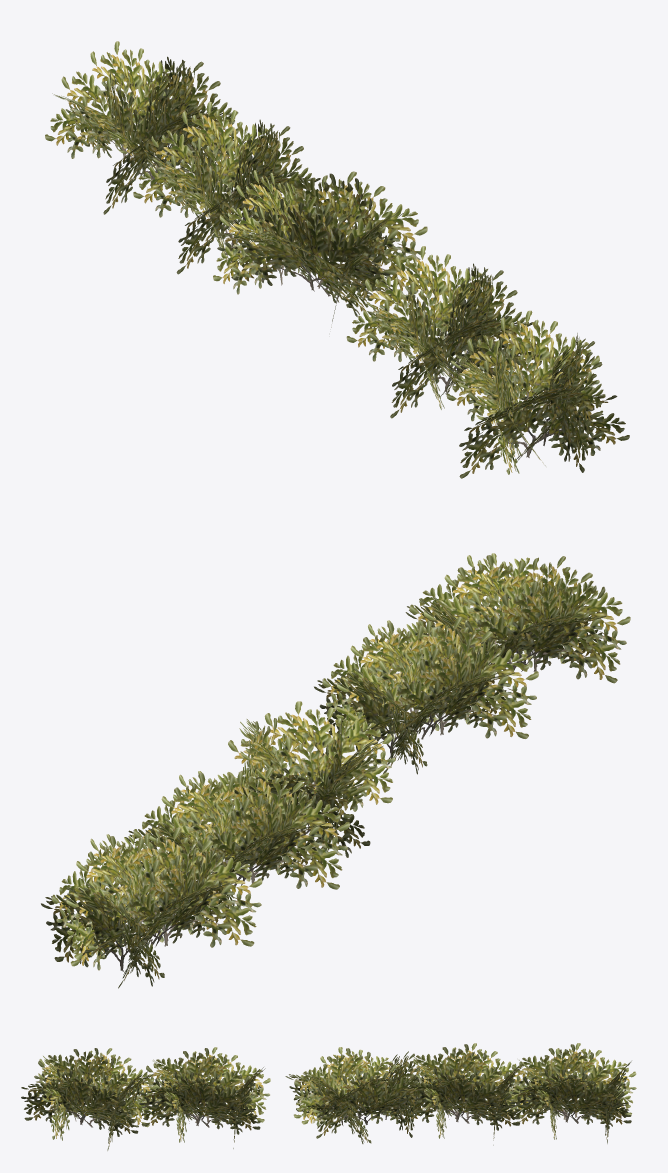
Rendered from hedge01a.fbx.
3 views of the same model, one above another, from view 1: azimuth 30°, elevation 25°; view 2: azimuth 150°, elevation 25°; view 3: azimuth 270°, elevation 25° (orthographic). The views are drawn at different scales.
Parts seen in each view (by area): view 1: hedge01a; view 2: hedge01a; view 3: hedge01a.
Boxes of the visible parts, left/top/right/bottom form: hedge01a: left=45, top=41, right=629, bottom=478; hedge01a: left=41, top=553, right=630, bottom=988; hedge01a: left=21, top=1043, right=636, bottom=1150.
Bounding box in the file's own units: 202 × 757 × 111.
1 material, 1 textured.
